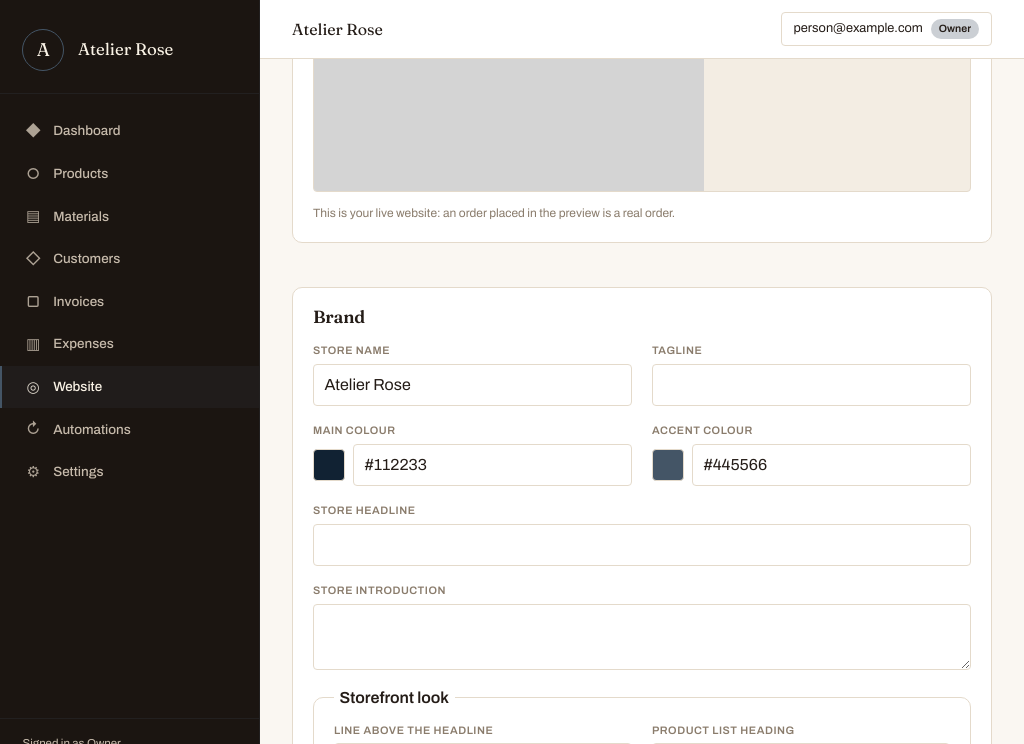
Test: website page › reloads the preview after Save
(page scrolled)
Replace the text in the field labelled "Store name" with "Atelier Rouge": (472, 385) [313,364,632,406]
(page scrolled)
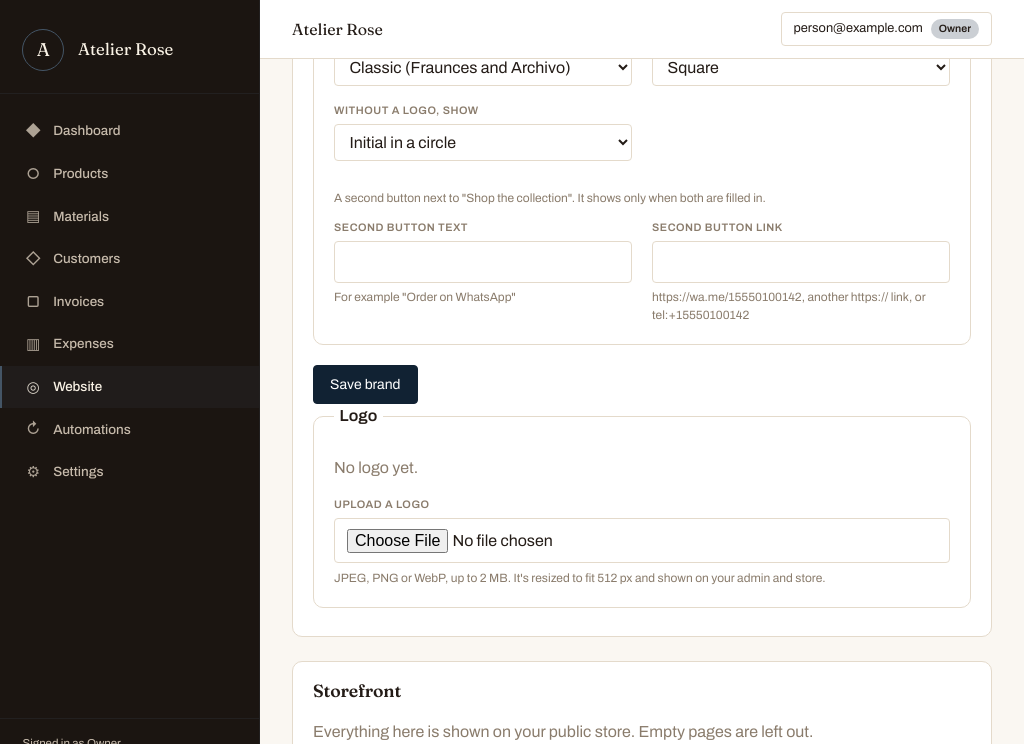
Click the button "Save brand": (365, 385) [313,365,418,404]
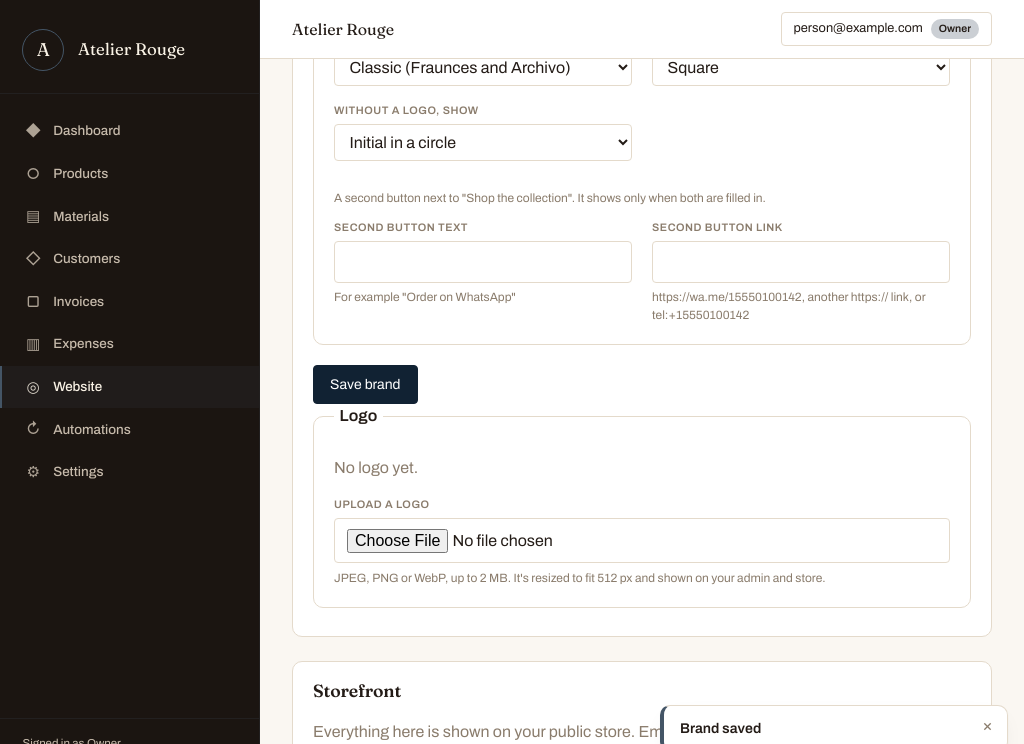
Expected: the text "Brand saved" is shown, [680,721,761,736]
